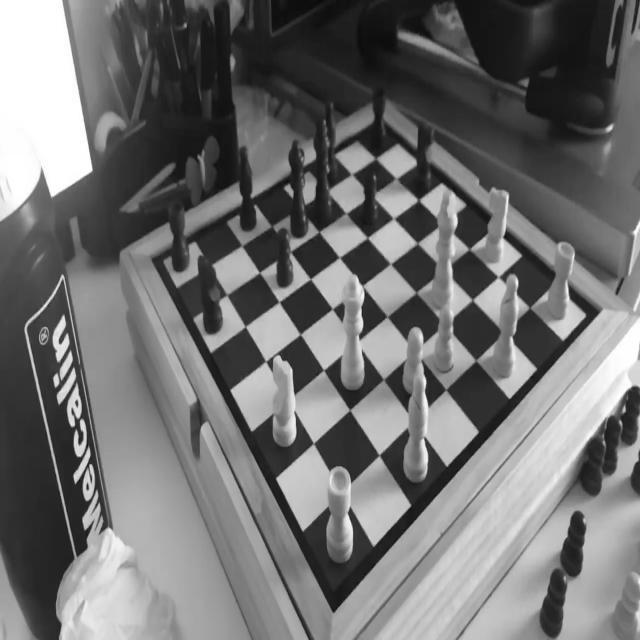chess-table-corners: (313, 582, 347, 622), (578, 288, 610, 327), (144, 242, 170, 272), (369, 110, 390, 134)
